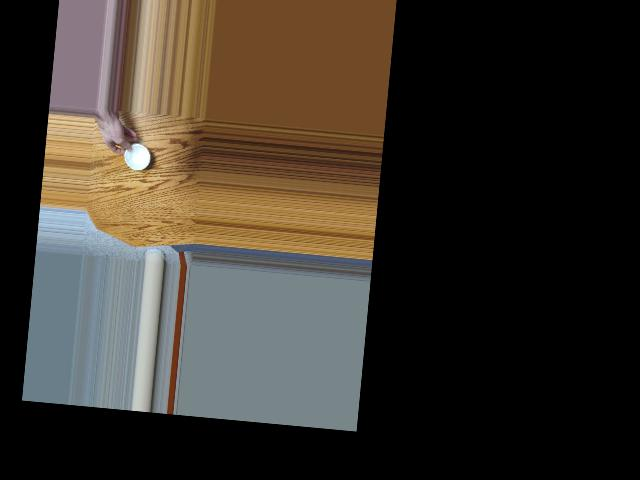cotage: (120, 142, 153, 171)
